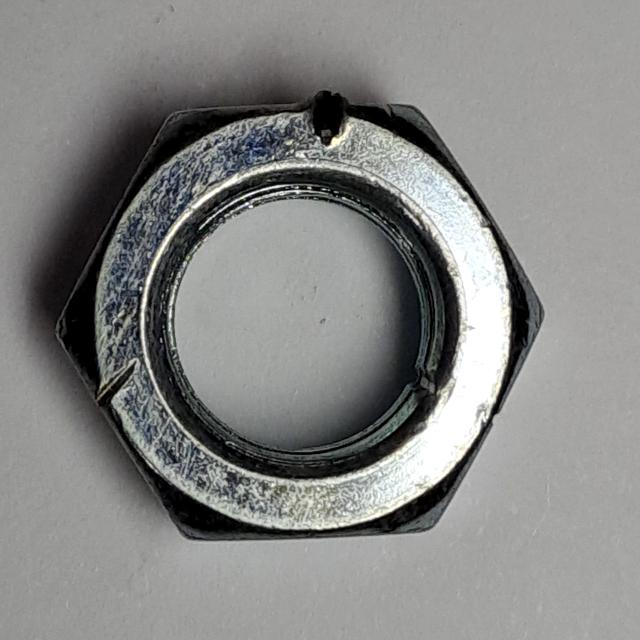Scratches: (38, 74, 558, 556)
